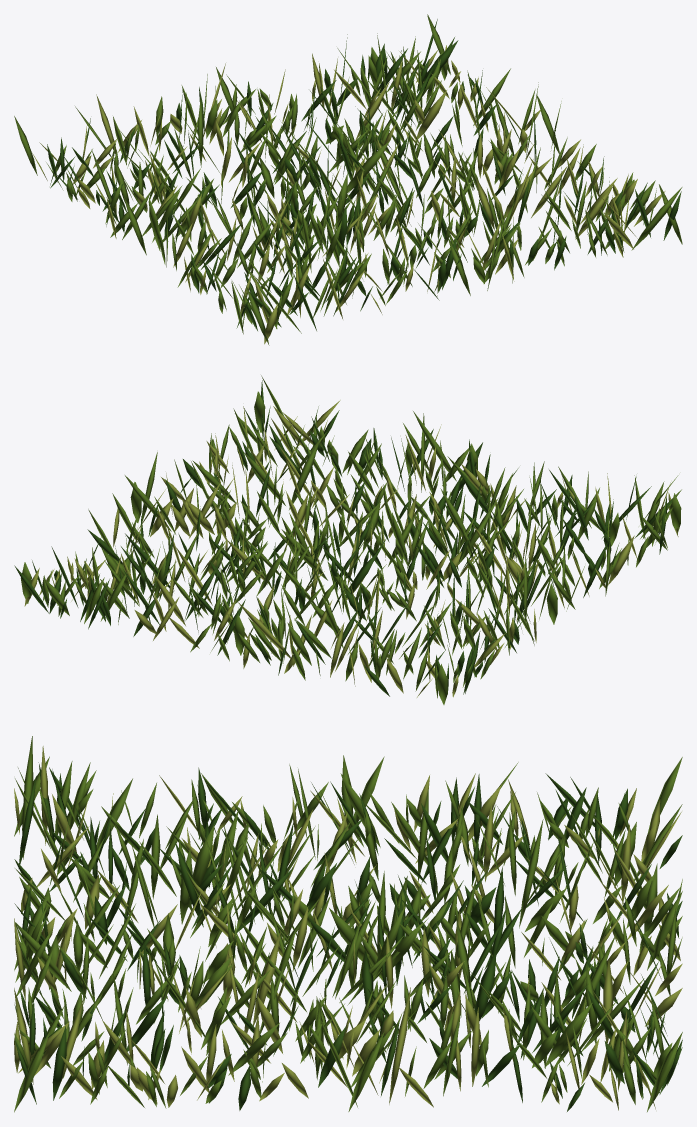
The model's file is MV_Grass_Uneven_2x2m.fbx.
3 views of the same model, one above another, from view 1: azimuth 30°, elevation 25°; view 2: azimuth 150°, elevation 25°; view 3: azimuth 270°, elevation 25° (orthographic). The views are drawn at different scales.
Parts seen in each view (by area): view 1: LOD0_Mesh, LOD1_Mesh, LOD2_Mesh; view 2: LOD0_Mesh, LOD1_Mesh, LOD2_Mesh; view 3: LOD0_Mesh, LOD1_Mesh, LOD2_Mesh.
Boxes of the visible parts, x1=… form: LOD0_Mesh: x1=32, y1=15, x2=682, y2=334; LOD1_Mesh: x1=53, y1=15, x2=682, y2=333; LOD2_Mesh: x1=14, y1=15, x2=682, y2=345; LOD0_Mesh: x1=14, y1=406, x2=681, y2=697; LOD1_Mesh: x1=22, y1=375, x2=678, y2=698; LOD2_Mesh: x1=20, y1=391, x2=681, y2=704; LOD0_Mesh: x1=14, y1=762, x2=682, y2=1111; LOD1_Mesh: x1=14, y1=736, x2=682, y2=1111; LOD2_Mesh: x1=14, y1=746, x2=682, y2=1111.
Bounding box in the file's own units: 2 × 0.3307 × 2.
